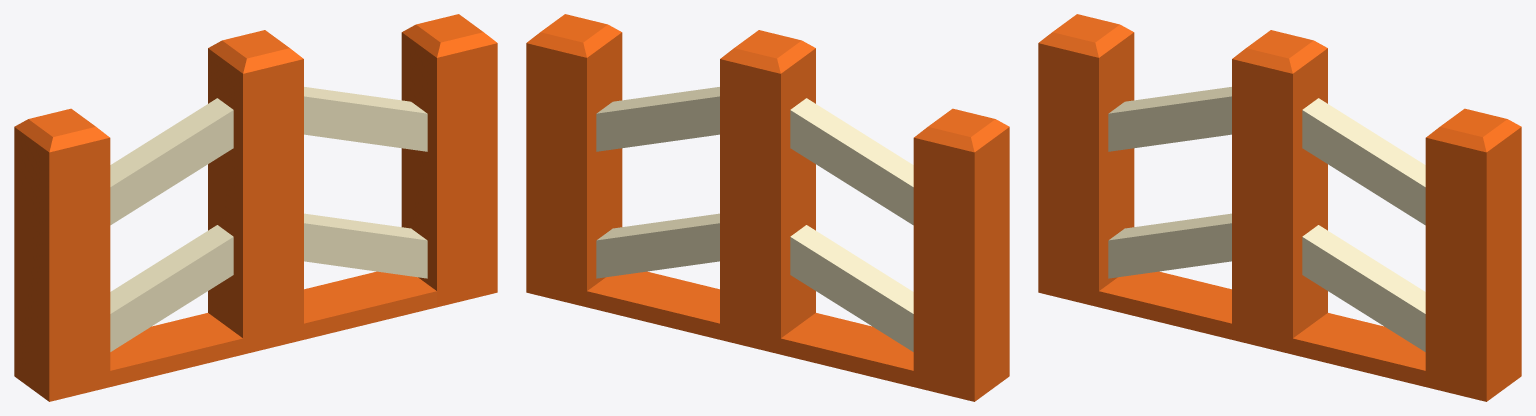
Rendered from Farm_Fence_E_03.fbx.
3 renders of one model, left to right at view 1: azimuth 30°, elevation 25°; view 2: azimuth 150°, elevation 25°; view 3: azimuth 330°, elevation 25°, orthographic.
Parts seen in each view (by area): view 1: Farm_Fence_E_03; view 2: Farm_Fence_E_03; view 3: Farm_Fence_E_03.
Boxes of the visible parts, x1,y1,x2,y2 form: Farm_Fence_E_03: (14,14,497,401); Farm_Fence_E_03: (526,14,1009,401); Farm_Fence_E_03: (1038,14,1521,401).
Bounding box in the file's own units: 200 × 124 × 27.13.
